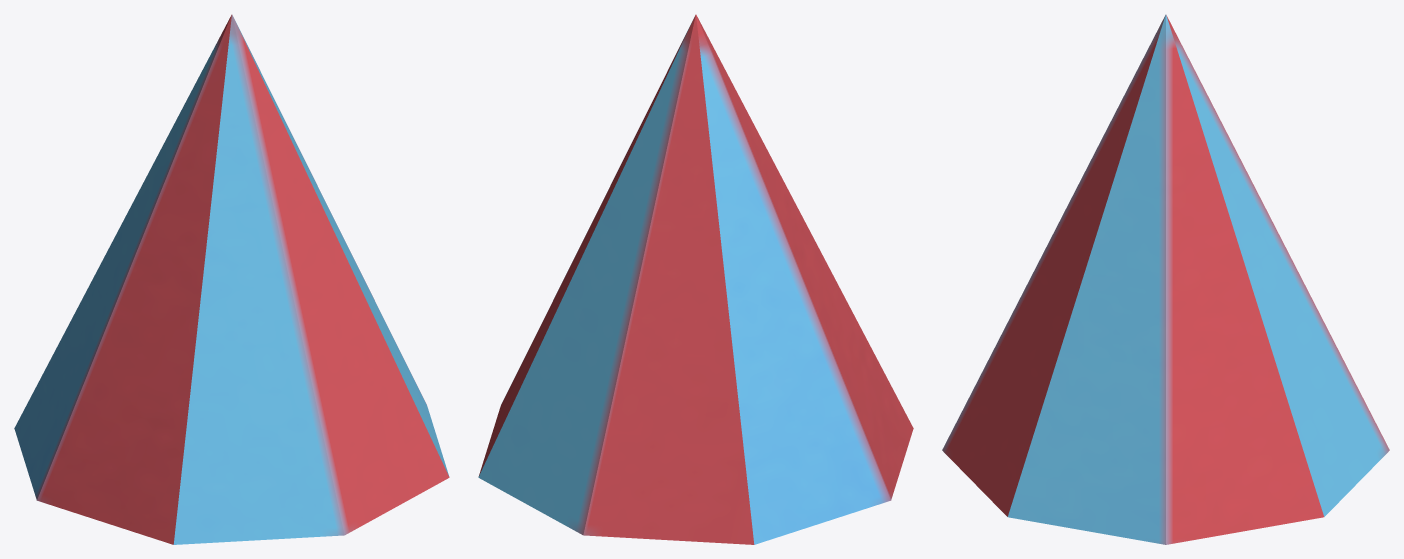
3 views of the same model, side by side, from view 1: azimuth 30°, elevation 25°; view 2: azimuth 150°, elevation 25°; view 3: azimuth 270°, elevation 25° (orthographic).
Visible parts, largest first — view 1: Cone; view 2: Cone; view 3: Cone.
Boxes of the visible parts, left/top/right/bottom form: Cone: left=14, top=14, right=449, bottom=544; Cone: left=478, top=14, right=913, bottom=544; Cone: left=942, top=14, right=1389, bottom=544.
Size of the model in its own units: 180 by 180 by 194.
1 material, 1 textured.
